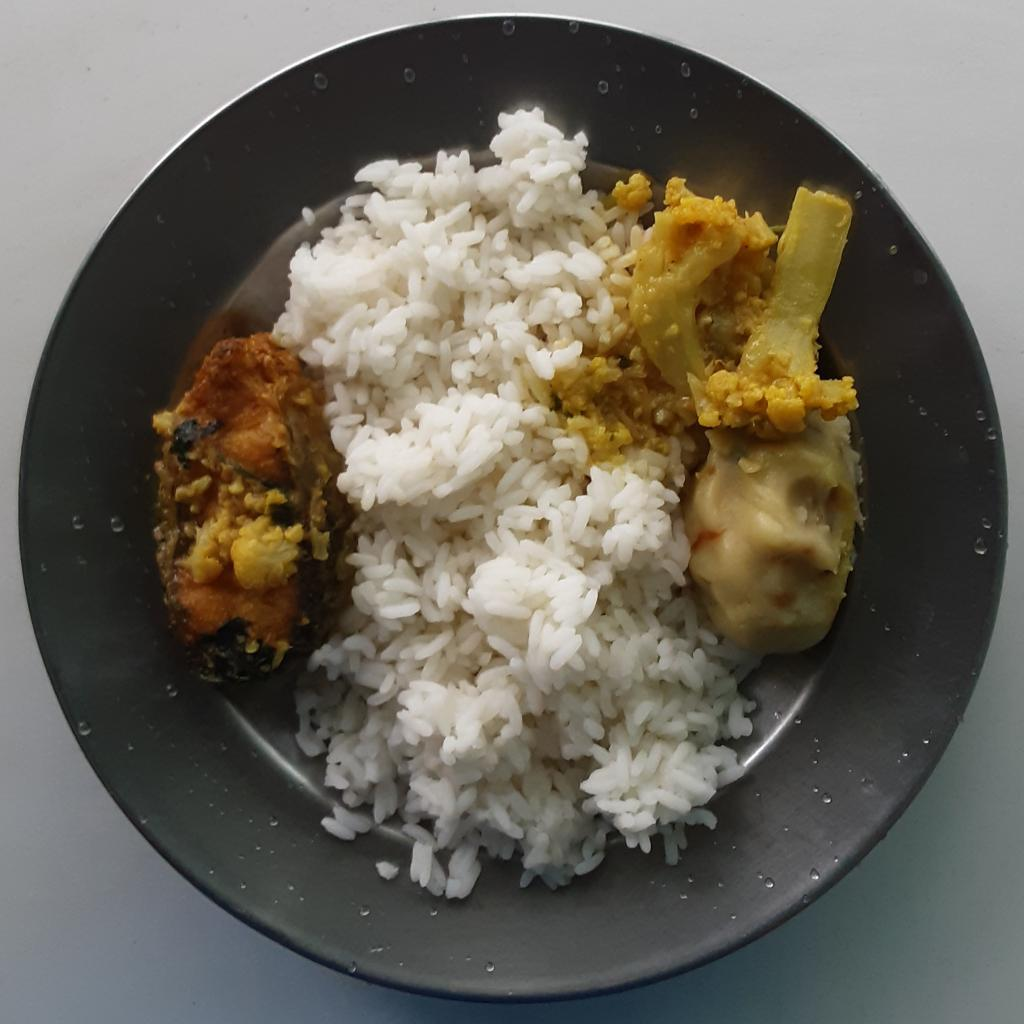cauliflower: (560, 171, 855, 459)
fish: (155, 337, 352, 679)
potato-mashed: (681, 409, 862, 656)
rice: (267, 114, 769, 910)
